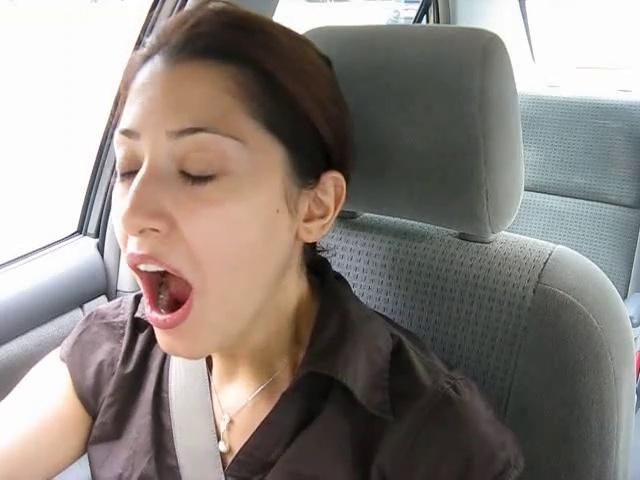open_eyeL: (100, 153, 150, 193)
open_eyeR: (162, 153, 235, 201)
yawn: (115, 256, 219, 337)
